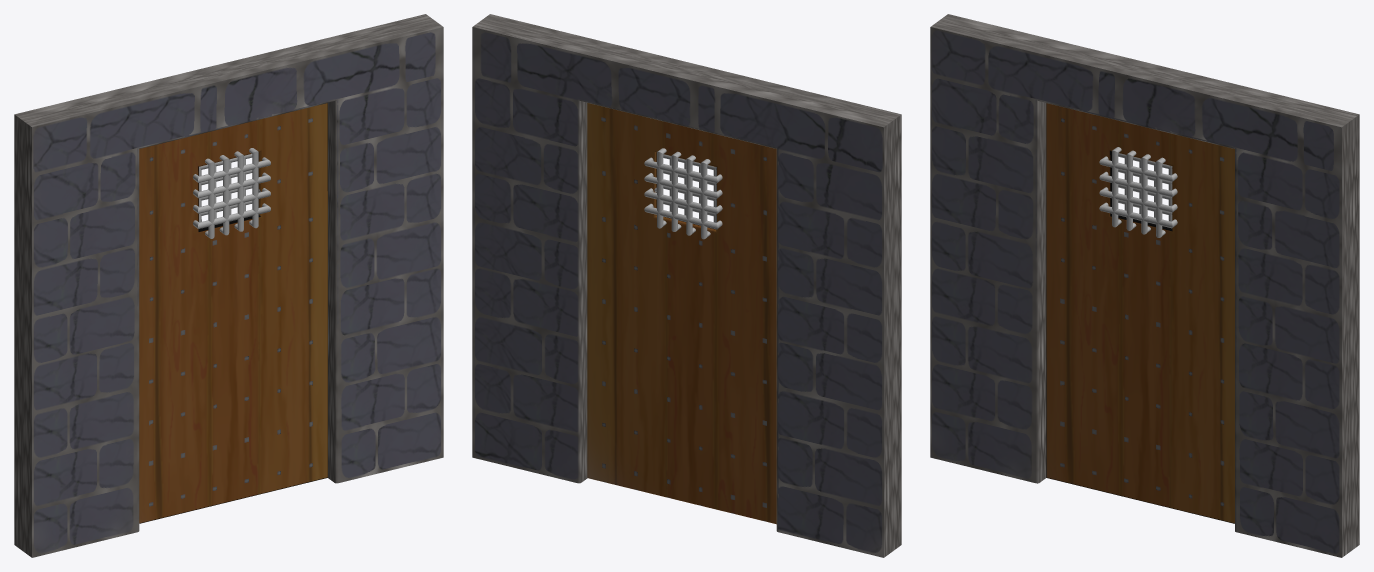
File: door.fbx
3 views of the same model, side by side, from view 1: azimuth 30°, elevation 25°; view 2: azimuth 150°, elevation 25°; view 3: azimuth 330°, elevation 25° (orthographic).
Parts seen in each view (by area): view 1: wall1, LP_door, pCylinder10, pCylinder11, pCylinder13, pCylinder12, pCylinder5, pCylinder9, pCylinder7, pCylinder8; view 2: wall1, LP_door, pCylinder10, pCylinder5, pCylinder13, pCylinder11, pCylinder12, pCylinder7, pCylinder8, pCylinder9; view 3: wall1, LP_door, pCylinder8, pCylinder10, pCylinder13, pCylinder11, pCylinder12, pCylinder9, pCylinder5, pCylinder7.
Boxes of the visible parts, left/top/right/bottom form: wall1: left=14, top=14, right=443, bottom=557; LP_door: left=139, top=103, right=327, bottom=523; pCylinder10: left=193, top=154, right=270, bottom=182; pCylinder11: left=193, top=170, right=270, bottom=198; pCylinder13: left=193, top=201, right=270, bottom=228; pCylinder12: left=193, top=185, right=270, bottom=213; pCylinder5: left=199, top=158, right=214, bottom=238; pCylinder9: left=214, top=155, right=229, bottom=235; pCylinder7: left=229, top=151, right=243, bottom=231; pCylinder8: left=244, top=148, right=258, bottom=228; wall1: left=472, top=14, right=901, bottom=557; LP_door: left=587, top=103, right=776, bottom=524; pCylinder10: left=644, top=154, right=722, bottom=183; pCylinder5: left=701, top=159, right=716, bottom=239; pCylinder13: left=644, top=201, right=722, bottom=229; pCylinder11: left=644, top=170, right=722, bottom=198; pCylinder12: left=644, top=185, right=722, bottom=213; pCylinder7: left=671, top=151, right=686, bottom=231; pCylinder8: left=657, top=148, right=671, bottom=228; pCylinder9: left=686, top=155, right=700, bottom=235; wall1: left=930, top=14, right=1359, bottom=557; LP_door: left=1046, top=103, right=1234, bottom=523; pCylinder8: left=1156, top=157, right=1172, bottom=237; pCylinder10: left=1099, top=153, right=1177, bottom=181; pCylinder13: left=1099, top=200, right=1177, bottom=228; pCylinder11: left=1099, top=169, right=1177, bottom=197; pCylinder12: left=1099, top=184, right=1177, bottom=212; pCylinder9: left=1126, top=150, right=1141, bottom=230; pCylinder5: left=1112, top=147, right=1126, bottom=227; pCylinder7: left=1141, top=154, right=1155, bottom=234.
Size of the model in its own units: 200 by 200 by 14.92.
